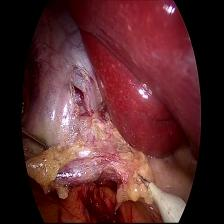Grasper: (20, 126, 50, 164)
Hook: (136, 172, 187, 223)
